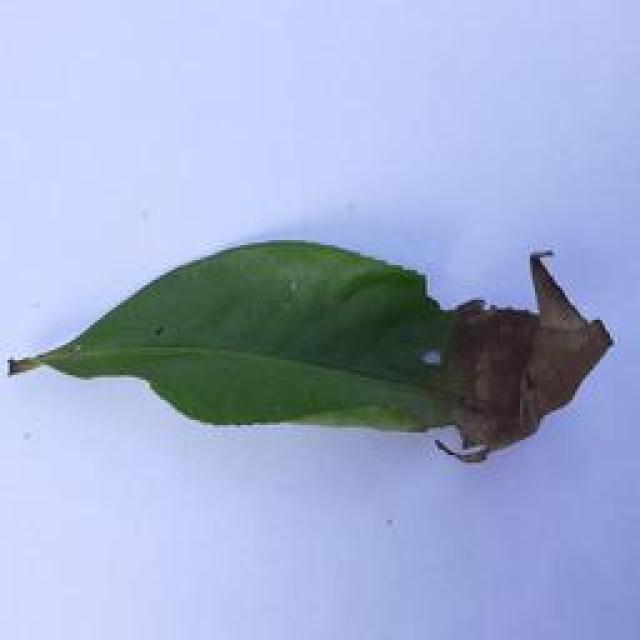Brown Blight: (5, 229, 618, 473)
